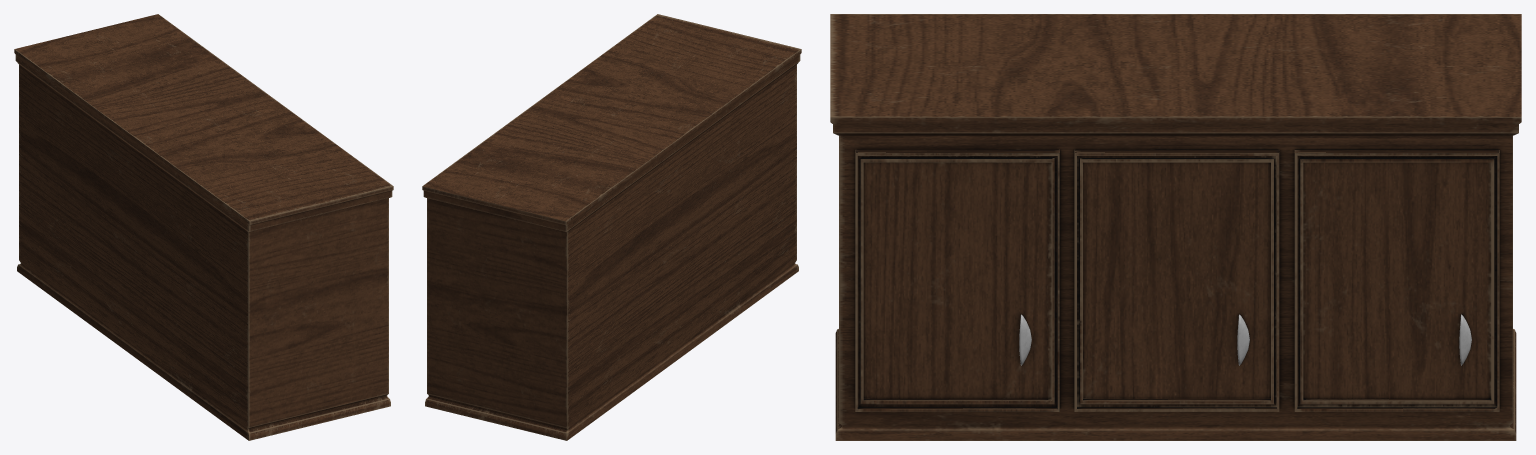
Rendered from hanging_kitchen_cupboards.glb.
3 renders of one model, left to right at view 1: azimuth 30°, elevation 25°; view 2: azimuth 150°, elevation 25°; view 3: azimuth 270°, elevation 25°, orthographic. The views are drawn at different scales.
Visible parts, largest first — view 1: Main_Wood_Frame; view 2: Main_Wood_Frame; view 3: Doors, Main_Wood_Frame, Handles.
Part boxes in pixels (box(x1,y1,x2,y2)): Main_Wood_Frame: box(14, 14, 393, 440); Main_Wood_Frame: box(422, 14, 801, 440); Doors: box(855, 149, 1499, 411); Main_Wood_Frame: box(830, 14, 1521, 440); Handles: box(1019, 314, 1471, 365).
Bounding box in the file's own units: 0.0212 × 0.0301 × 0.058.
3 materials, 3 textured.
